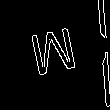M_S: (28, 26, 82, 84)
